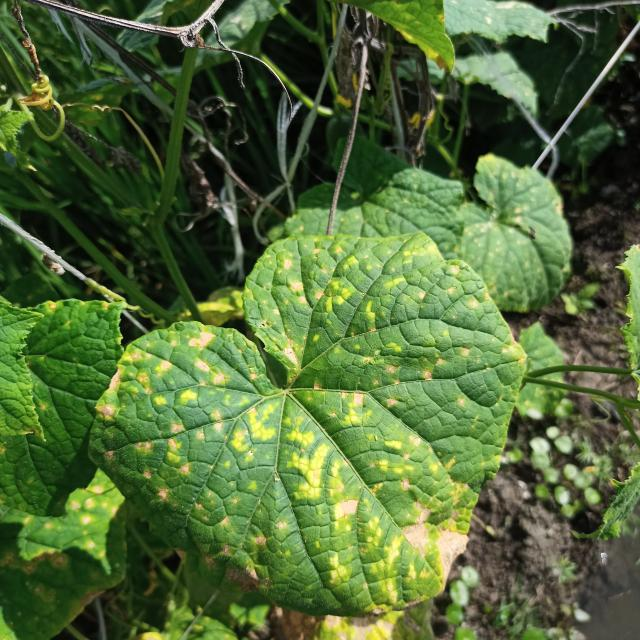disease_cucumber: (98, 238, 524, 595)
